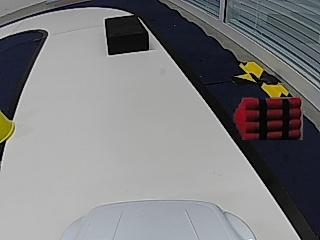block: (105, 16, 149, 54)
cone: (0, 111, 16, 141)
